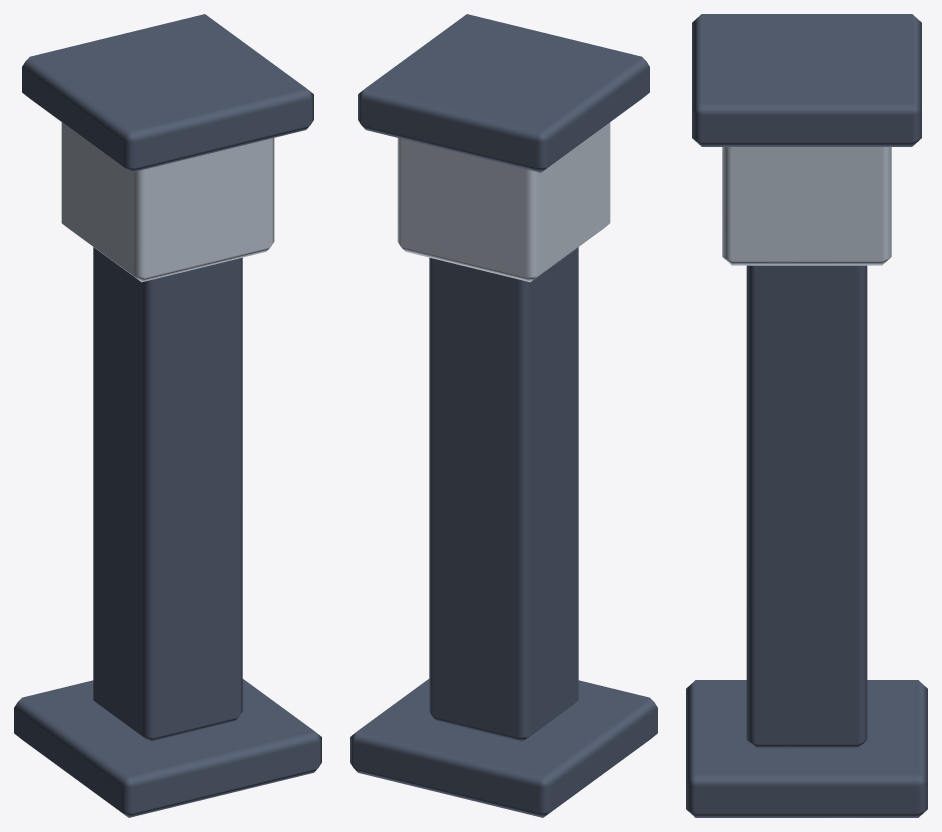
The model's file is garden-bollard-lite.glb.
3 views of the same model, side by side, from view 1: azimuth 30°, elevation 25°; view 2: azimuth 150°, elevation 25°; view 3: azimuth 270°, elevation 25° (orthographic). The views are drawn at different scales.
Parts seen in each view (by area): view 1: garden-bollard; view 2: garden-bollard; view 3: garden-bollard.
Part boxes in pixels (<box>): garden-bollard: <box>14,14,321,817</box>; garden-bollard: <box>350,14,657,817</box>; garden-bollard: <box>686,14,927,817</box>.
Bounding box in the file's own units: 0.2 × 0.65 × 0.2.
